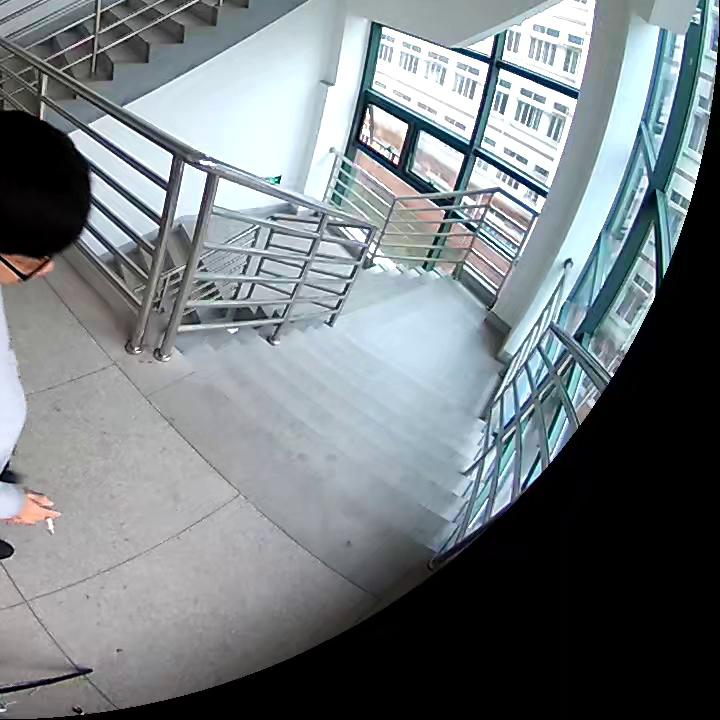handsmoke: (12, 489, 63, 535)
